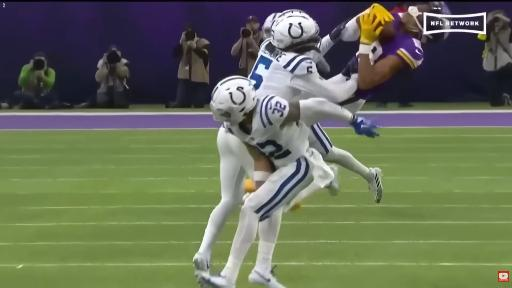Helmet: (210, 76, 256, 123), (271, 12, 319, 49), (408, 6, 450, 43), (262, 9, 305, 38), (424, 2, 451, 30), (262, 13, 280, 38), (279, 10, 305, 16)
Jersey: (223, 95, 309, 168), (249, 39, 318, 100), (370, 14, 423, 72)
Player: (198, 77, 378, 287), (328, 2, 450, 113), (341, 2, 450, 112), (250, 11, 356, 102), (194, 127, 253, 274)
